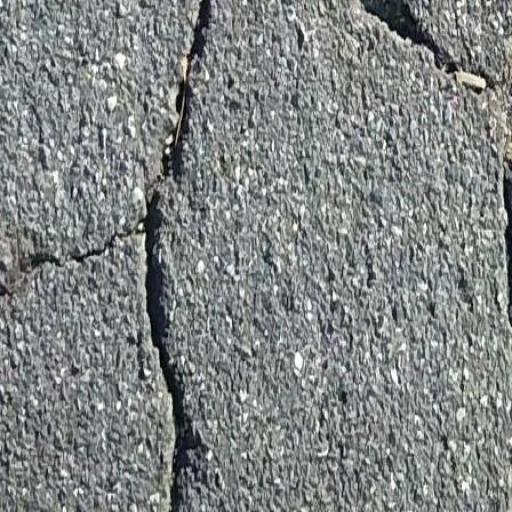spalling: (6, 6, 219, 512), (354, 0, 503, 97)
